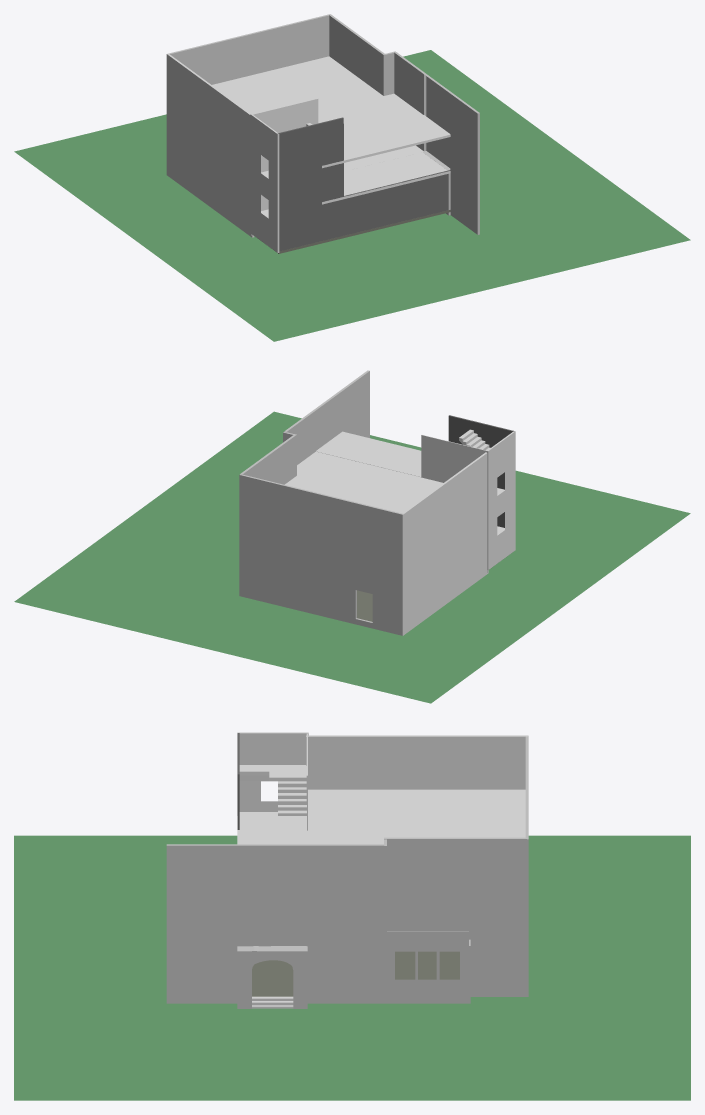
The model's file is SCI_MODEL.fbx.
3 renders of one model, top to bottom at view 1: azimuth 30°, elevation 25°; view 2: azimuth 150°, elevation 25°; view 3: azimuth 270°, elevation 25°, orthographic. The views are drawn at different scales.
Visible parts, largest first — view 1: Plane, sciany, Cube.020, Cube.018, Cube.002, Cube.019, Cube.009, Cube.011, Cube.008, Cube.017, Cube.006, Cube.005; view 2: Plane, Cube.019, Cube.020, Cube.018, Cube.002, Cube.009, Cube.011, Cube.017, sciany; view 3: Plane, Cube.018, Cube.020, Cube.002, Cube.005, Cube.009, Cube.003, Cube.011, Cube, schody.005, Cube.012, Cube.019.
Part boxes in pixels (<box>): Plane: <box>14,50,690,341</box>; sciany: <box>278,117,450,251</box>; Cube.020: <box>166,54,254,237</box>; Cube.018: <box>329,14,479,234</box>; Cube.002: <box>212,56,422,157</box>; Cube.019: <box>168,14,330,84</box>; Cube.009: <box>250,114,279,252</box>; Cube.011: <box>322,115,450,168</box>; Cube.008: <box>322,152,450,204</box>; Cube.017: <box>251,98,318,235</box>; Cube.006: <box>344,145,423,171</box>; Cube.005: <box>278,210,450,253</box>; Plane: <box>14,411,690,703</box>; Cube.019: <box>239,474,403,635</box>; Cube.020: <box>402,452,488,635</box>; Cube.018: <box>240,370,369,484</box>; Cube.002: <box>285,451,443,513</box>; Cube.009: <box>486,431,515,569</box>; Cube.011: <box>316,431,421,476</box>; Cube.017: <box>421,435,487,572</box>; sciany: <box>448,415,514,527</box>; Plane: <box>14,835,690,1100</box>; Cube.018: <box>166,837,526,1003</box>; Cube.020: <box>306,735,528,789</box>; Cube.002: <box>307,789,525,844</box>; Cube.005: <box>252,951,459,996</box>; Cube.009: <box>237,732,308,815</box>; Cube.003: <box>237,946,307,1008</box>; Cube.011: <box>237,816,307,844</box>; Cube: <box>383,931,468,948</box>; schody.005: <box>278,781,306,815</box>; Cube.012: <box>239,765,306,781</box>; Cube.019: <box>525,736,528,996</box>.
Size of the model in its own units: 6795 by 1941 by 7339.
